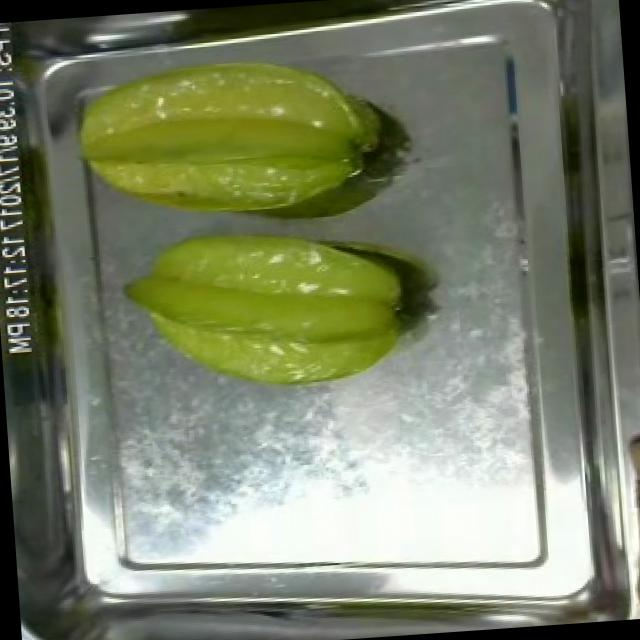fruit: (60, 34, 402, 235), (120, 210, 424, 406)
